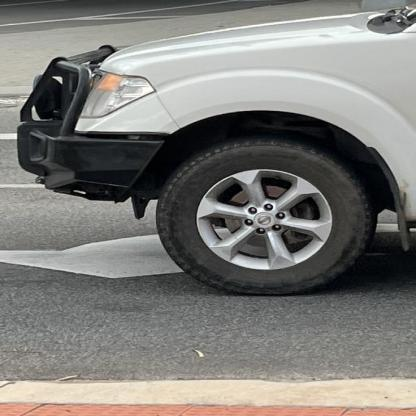Tire: (154, 140, 373, 296)
